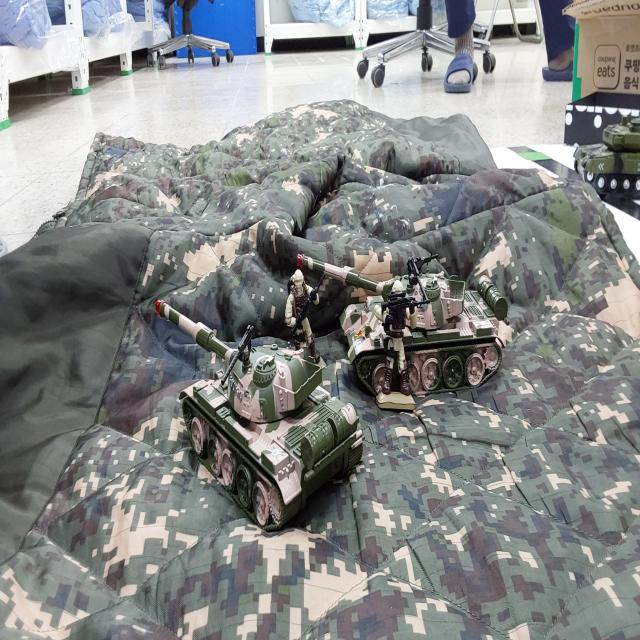ally: (377, 281, 429, 411), (285, 269, 327, 384)
